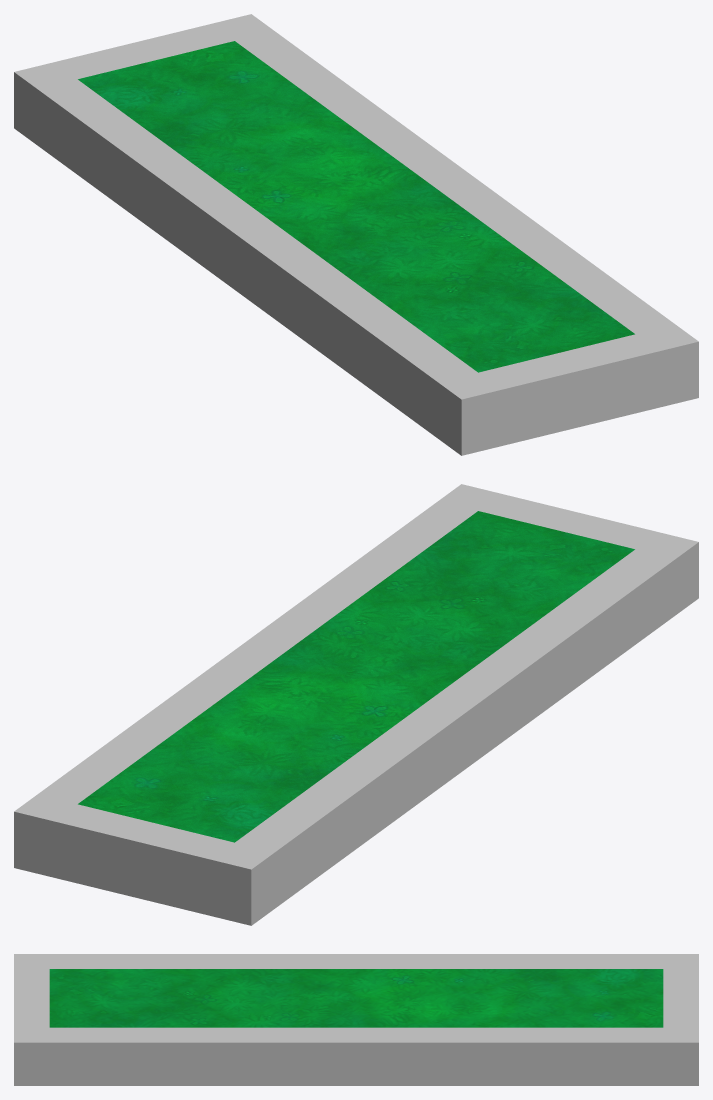
The model's file is Plant01_b04.FBX.
3 renders of one model, top to bottom at view 1: azimuth 30°, elevation 25°; view 2: azimuth 150°, elevation 25°; view 3: azimuth 270°, elevation 25°, orthographic. The views are drawn at different scales.
Parts seen in each view (by area): view 1: Plant01_b04; view 2: Plant01_b04; view 3: Plant01_b04.
Boxes of the visible parts, bbox=[...] form: Plant01_b04: bbox=[14, 14, 698, 455]; Plant01_b04: bbox=[14, 484, 698, 925]; Plant01_b04: bbox=[14, 954, 698, 1085].
Bounding box in the file's own units: 208 × 47.09 × 678.
